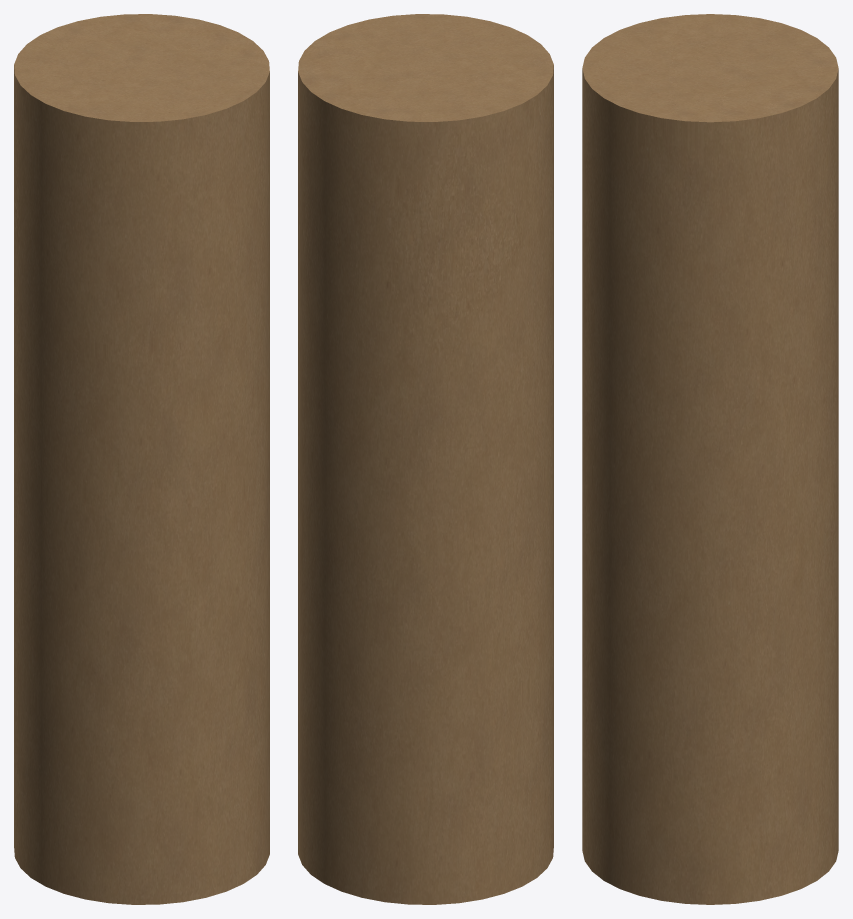
File: SimplePillar-sandstone.glb
The picture shows the model from 3 angles, left to right: view 1: azimuth 30°, elevation 25°; view 2: azimuth 150°, elevation 25°; view 3: azimuth 270°, elevation 25°; orthographic projection.
Parts seen in each view (by area): view 1: Pillar; view 2: Pillar; view 3: Pillar.
Boxes of the visible parts, x1,y1,x2,y2 form: Pillar: [14, 14, 269, 904]; Pillar: [298, 14, 553, 904]; Pillar: [582, 14, 838, 904].
Size of the model in its own units: 0.8903 by 3 by 0.8903.
Materials: 1 (1 with a texture image).
